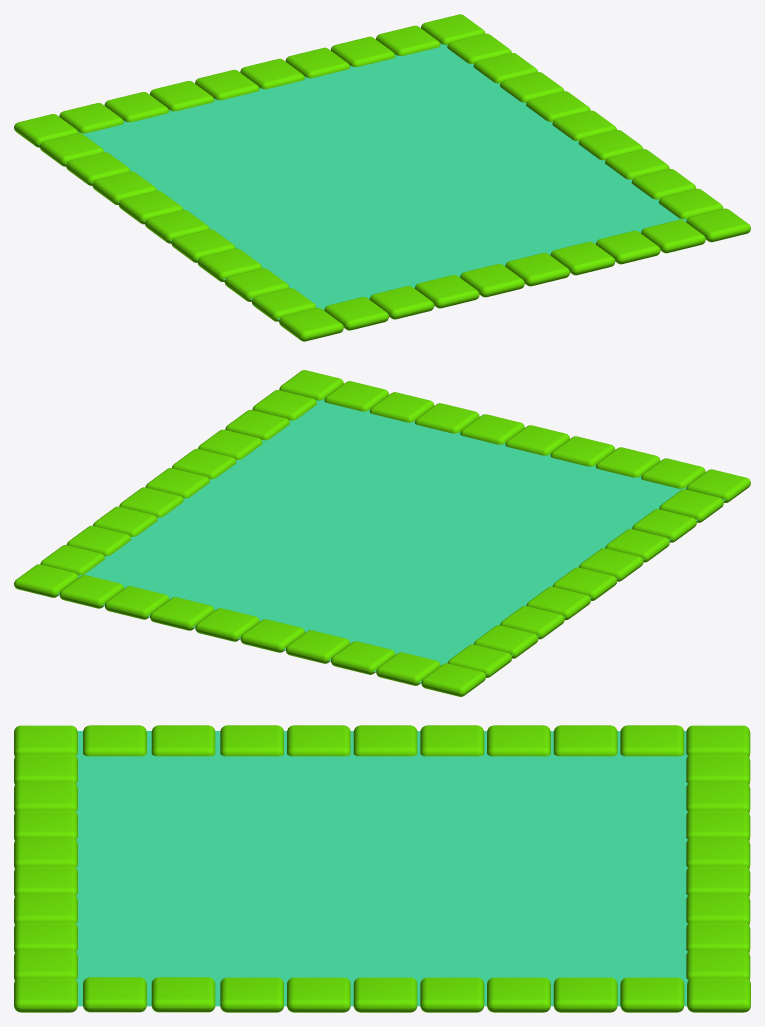
The model's file is normalize.fbx.
The picture shows the model from 3 angles, top to bottom: view 1: azimuth 30°, elevation 25°; view 2: azimuth 150°, elevation 25°; view 3: azimuth 270°, elevation 25°; orthographic projection. The views are drawn at different scales.
Parts seen in each view (by area): view 1: Plane, Cube.009, Cube.004, Cube.002, Cube.003, Cube.008, Cube.007, Cube.001, Cube.005, Cube, Cube.006, Cube.035 (+27 smaller); view 2: Plane, Cube.019, Cube.017, Cube.023, Cube.021, Cube.022, Cube.020, Cube.024, Cube.025, Cube.027, Cube.026, Cube.009 (+27 smaller); view 3: Plane, Cube.012, Cube.015, Cube.037, Cube.013, Cube.016, Cube, Cube.010, Cube.011, Cube.014, Cube.017, Cube.036 (+27 smaller).
Part boxes in pixels (x1,y1,x2,y2): Plane: (39, 43, 705, 325); Cube.009: (279, 308, 343, 341); Cube.004: (505, 252, 569, 286); Cube.002: (596, 230, 660, 264); Cube.003: (550, 241, 615, 275); Cube.008: (324, 297, 388, 330); Cube.007: (369, 286, 434, 319); Cube.001: (641, 219, 705, 253); Cube.005: (460, 264, 524, 297); Cube: (686, 208, 750, 242); Cube.006: (415, 275, 479, 308); Cube.035: (251, 288, 316, 321); Plane: (57, 398, 725, 682); Cube.019: (421, 663, 485, 696); Cube.017: (14, 564, 78, 597); Cube.023: (240, 619, 304, 652); Cube.021: (331, 641, 395, 674); Cube.022: (285, 630, 350, 663); Cube.020: (376, 652, 440, 685); Cube.024: (195, 608, 259, 641); Cube.025: (150, 597, 214, 630); Cube.027: (59, 575, 124, 608); Cube.026: (105, 586, 169, 619); Cube.009: (686, 469, 750, 502); Plane: (76, 731, 688, 1006); Cube.012: (353, 977, 417, 1012); Cube.015: (553, 977, 617, 1012); Cube.037: (151, 977, 215, 1012); Cube.013: (420, 977, 484, 1012); Cube.016: (620, 977, 684, 1012); Cube: (14, 977, 77, 1012); Cube.010: (220, 977, 283, 1012); Cube.011: (287, 977, 350, 1012); Cube.014: (487, 977, 550, 1012); Cube.017: (687, 977, 750, 1012); Cube.036: (83, 977, 146, 1012).
Size of the model in its own units: 1506 by 32.07 by 1681.
